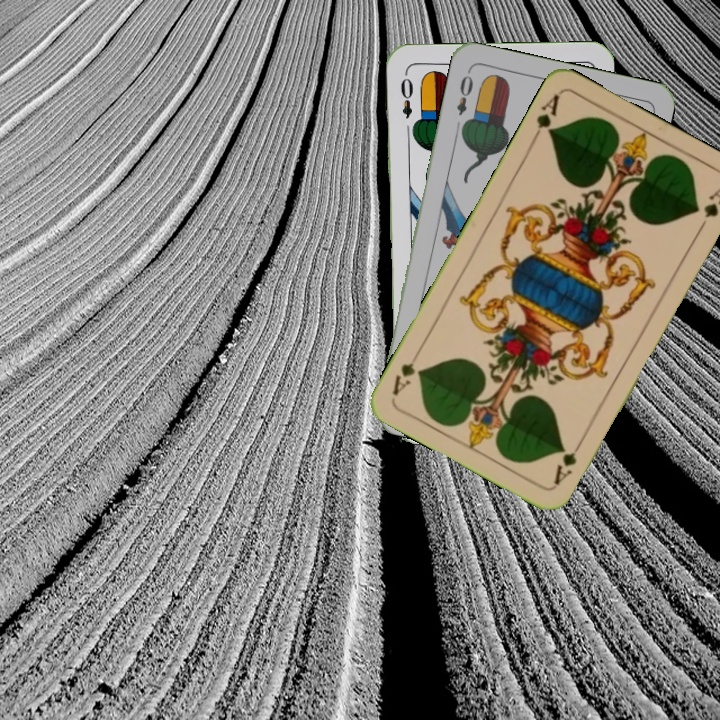EO: (452, 71, 476, 118), (396, 74, 416, 121)
GA: (549, 435, 586, 488), (528, 90, 562, 145)
